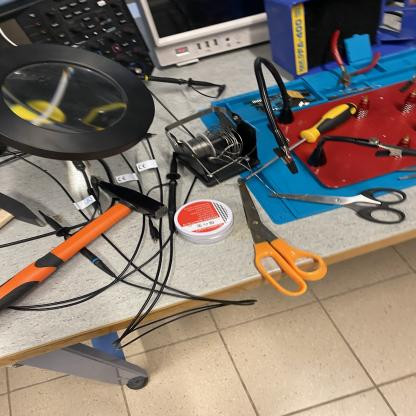Hammer: (0, 181, 170, 313), (0, 192, 46, 233)
scissors: (236, 176, 328, 298), (270, 186, 407, 225)
